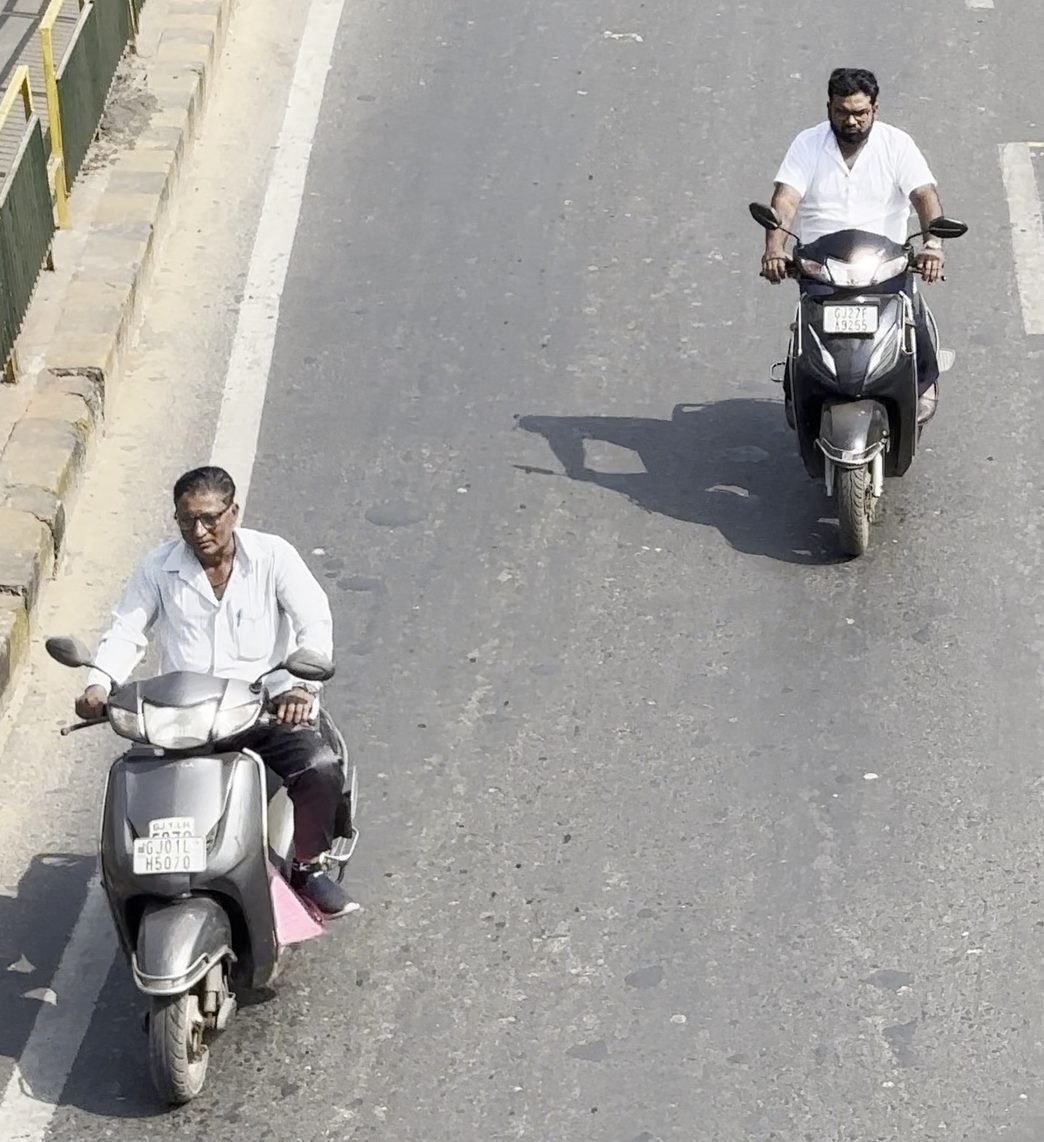BikeWithRider: (32, 455, 376, 1111), (736, 54, 974, 570)
NoHelmet: (161, 460, 250, 566), (816, 58, 888, 152)
